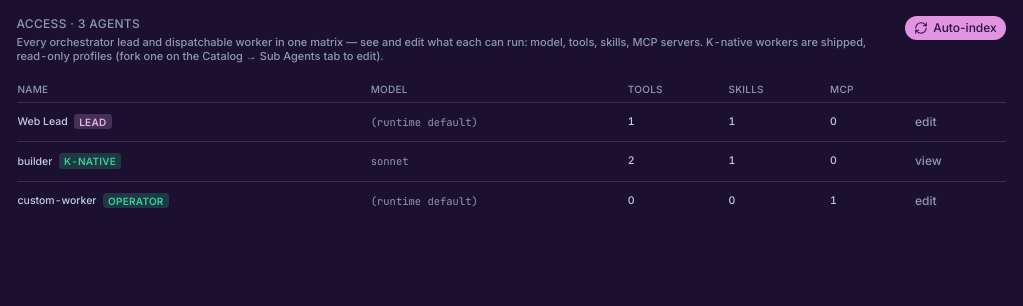
it: AccessPage — K-native worker rows are read-only › expanding a K-native row shows no Save control
Click the button with test id "access-expand-k:builder". click: (928, 161)
box: x1=906 y1=149 x2=950 y2=174
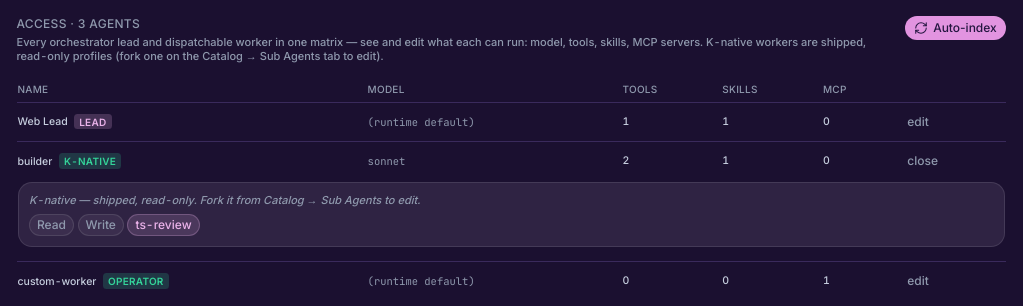
Result: the row with test id "access-row-expanded-k:builder" is shown at x1=16 y1=180 x2=1006 y2=262
